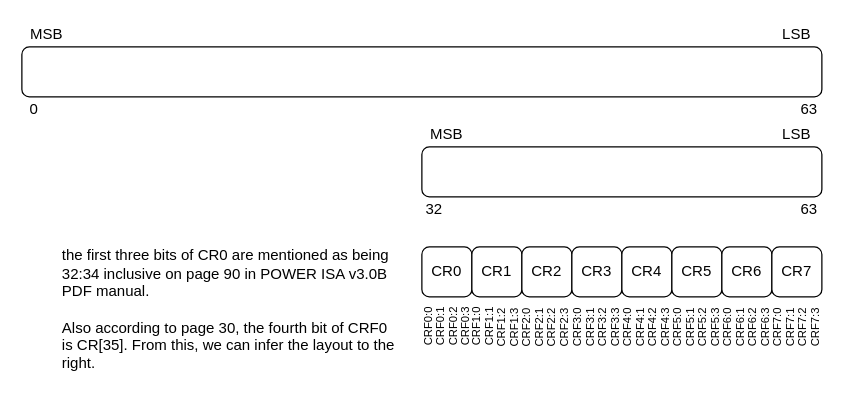
This 845x394 diagram has some shape labels left out. Here are the shapes that lost their labels. From the top down, the box of each, then its label:
(21, 46, 822, 97): POWER 64 bit register
(421, 146, 822, 197): CR - (CR is a 32 bit register)
